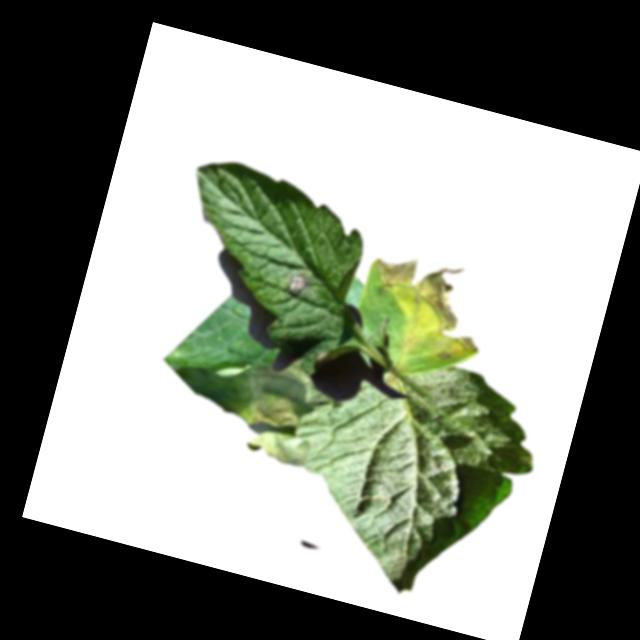Late_blight: (158, 338, 328, 471), (354, 247, 497, 369), (285, 270, 312, 300)
healthy: (263, 331, 553, 618)
